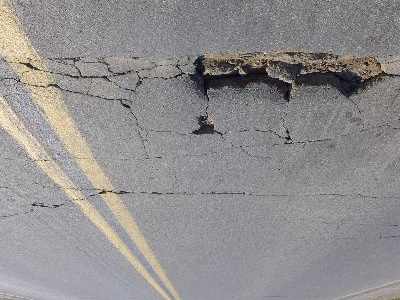pothole: (182, 49, 389, 104), (189, 114, 218, 138)
